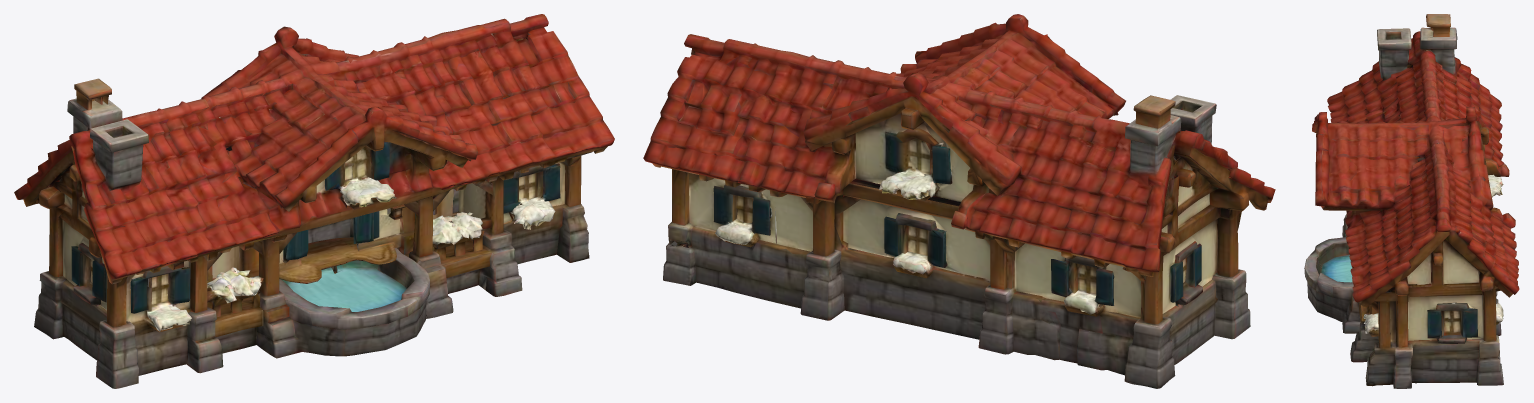
3 renders of one model, left to right at view 1: azimuth 30°, elevation 25°; view 2: azimuth 150°, elevation 25°; view 3: azimuth 270°, elevation 25°, orthographic. The views are drawn at different scales.
Visible parts, largest first — view 1: alpine__onsen_1__native_mobile; view 2: alpine__onsen_1__native_mobile; view 3: alpine__onsen_1__native_mobile.
Boxes of the visible parts, bbox=[...] form: alpine__onsen_1__native_mobile: bbox=[14, 14, 614, 388]; alpine__onsen_1__native_mobile: bbox=[643, 14, 1275, 388]; alpine__onsen_1__native_mobile: bbox=[1304, 14, 1519, 388].
Bounding box in the file's own units: 1 × 0.4729 × 0.4582.
Materials: 1 (1 with a texture image).
